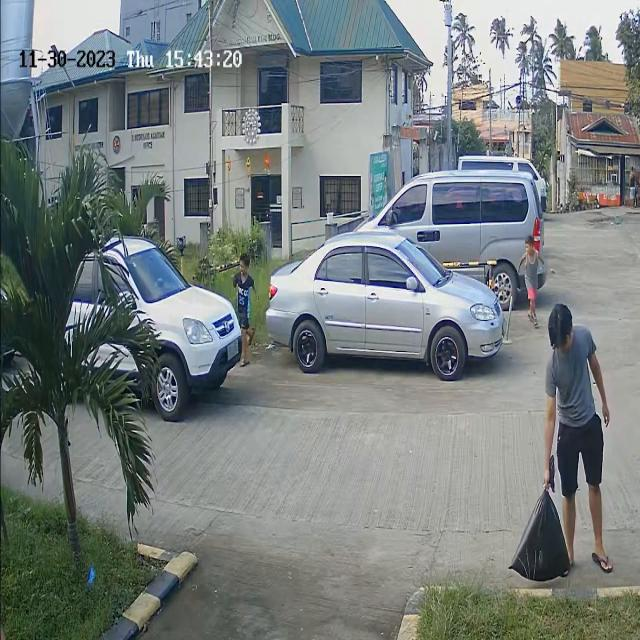garbage: (507, 471, 573, 593)
person: (548, 305, 606, 489), (521, 236, 542, 331), (233, 255, 253, 333)
